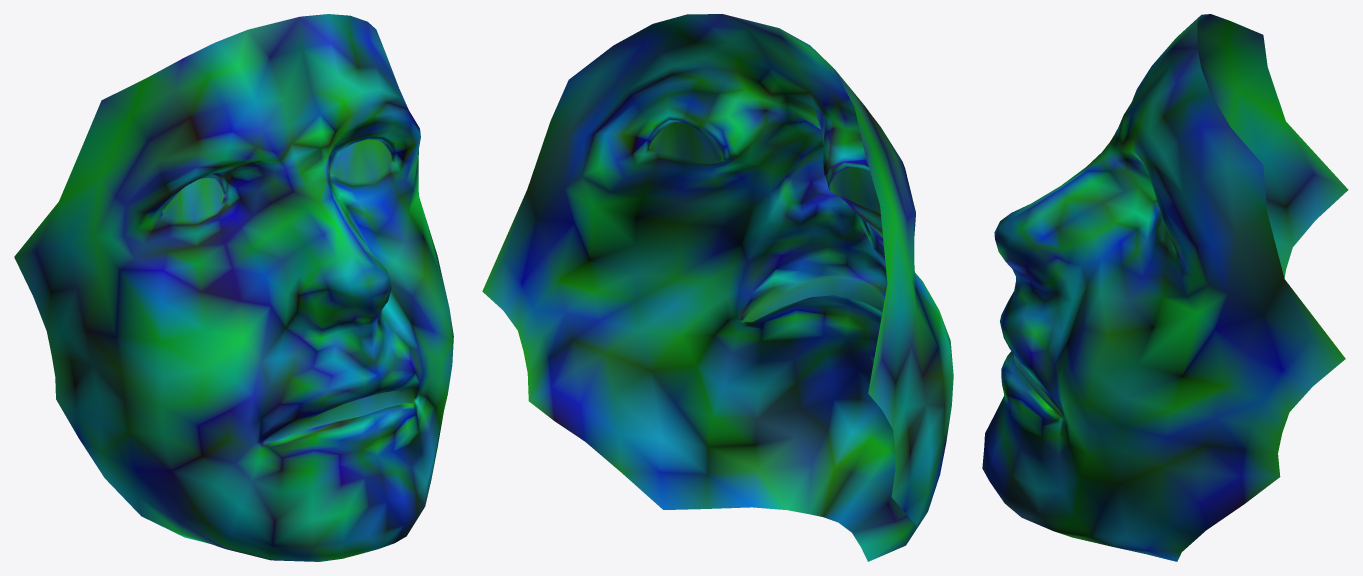
3 views of the same model, side by side, from view 1: azimuth 30°, elevation 25°; view 2: azimuth 150°, elevation 25°; view 3: azimuth 270°, elevation 25° (orthographic). The views are drawn at different scales.
Visible parts, largest first — view 1: LUT_mesh; view 2: LUT_mesh; view 3: LUT_mesh.
Part boxes in pixels (x1,y1,x2,y2): LUT_mesh: (14,14,453,561); LUT_mesh: (482,14,953,561); LUT_mesh: (982,14,1348,561).
Bounding box in the file's own units: 0.1002 × 0.1323 × 0.0887.
